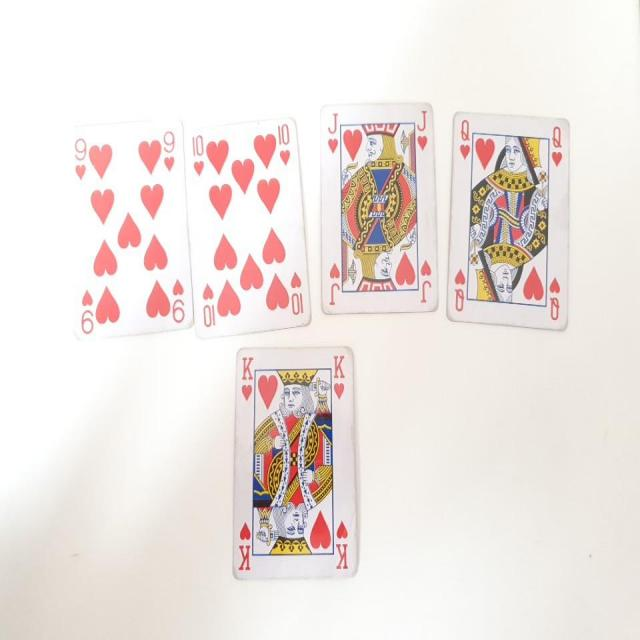10 Hearts: (183, 118, 314, 335)
9 Hearts: (65, 118, 196, 345)
J Hearts: (312, 92, 441, 316)
K Hearts: (230, 347, 358, 578)
Q Hearts: (443, 102, 576, 335)
